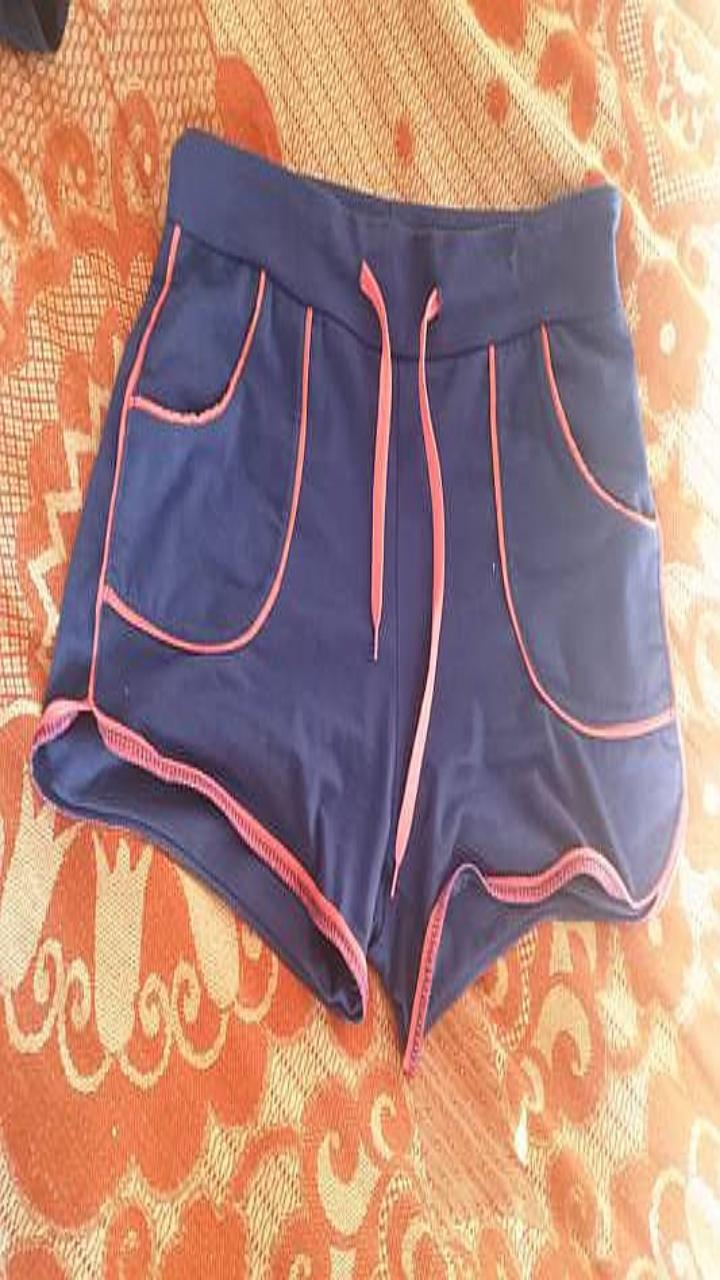Shorts: (33, 131, 684, 1069)
